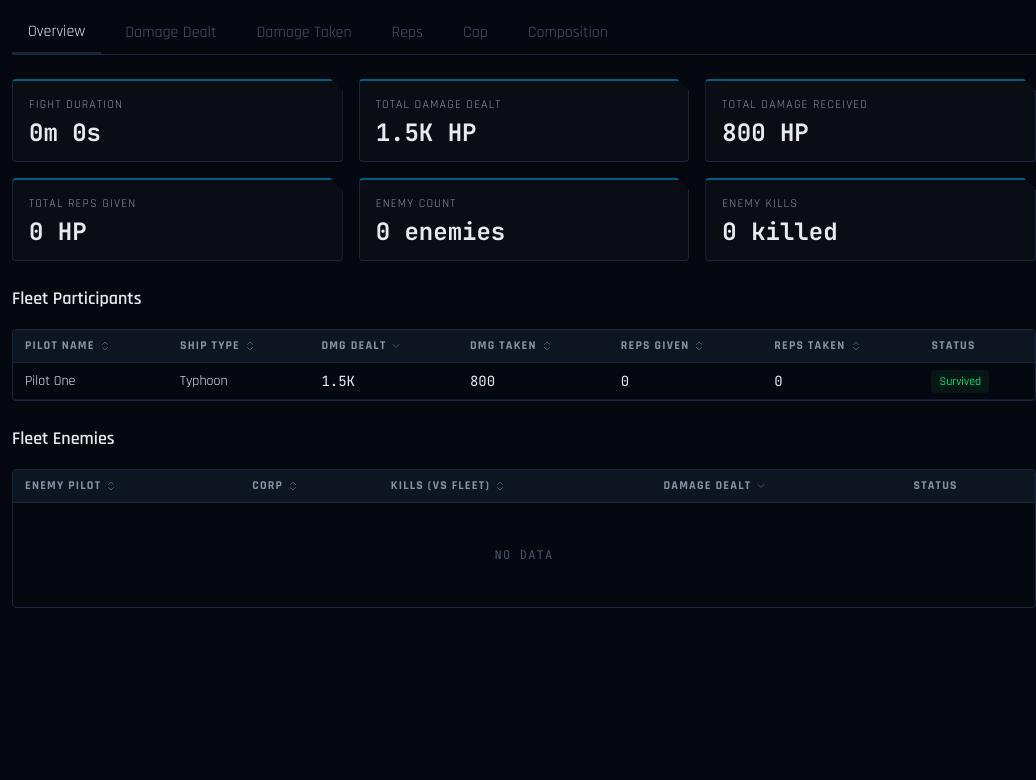
FleetAnalysisTabs › renders rep rows from rep entries even when participant totals are zero
This screenshot has width=1036, height=780.
Click the button "Reps".
click(407, 33)  # box [376,12,439,54]
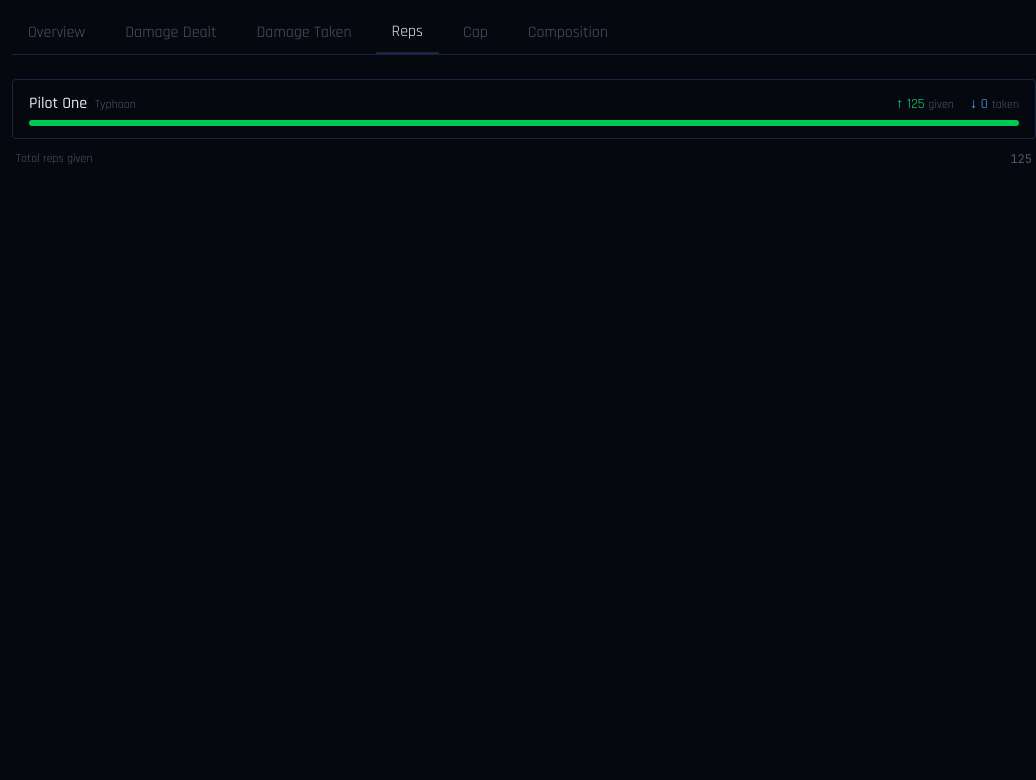
Expected: the text "Pilot One" is shown, [29,93,87,114]
Now the text "125" is shown, box [1010,151,1032,167]
